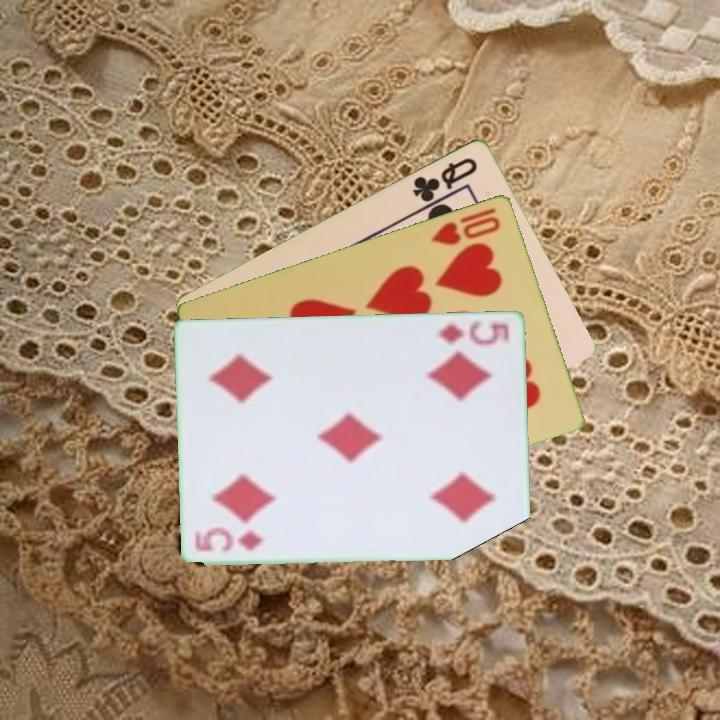10h: (428, 212, 504, 248)
5d: (435, 317, 512, 347), (192, 526, 269, 555)
Qc: (409, 153, 481, 205)
